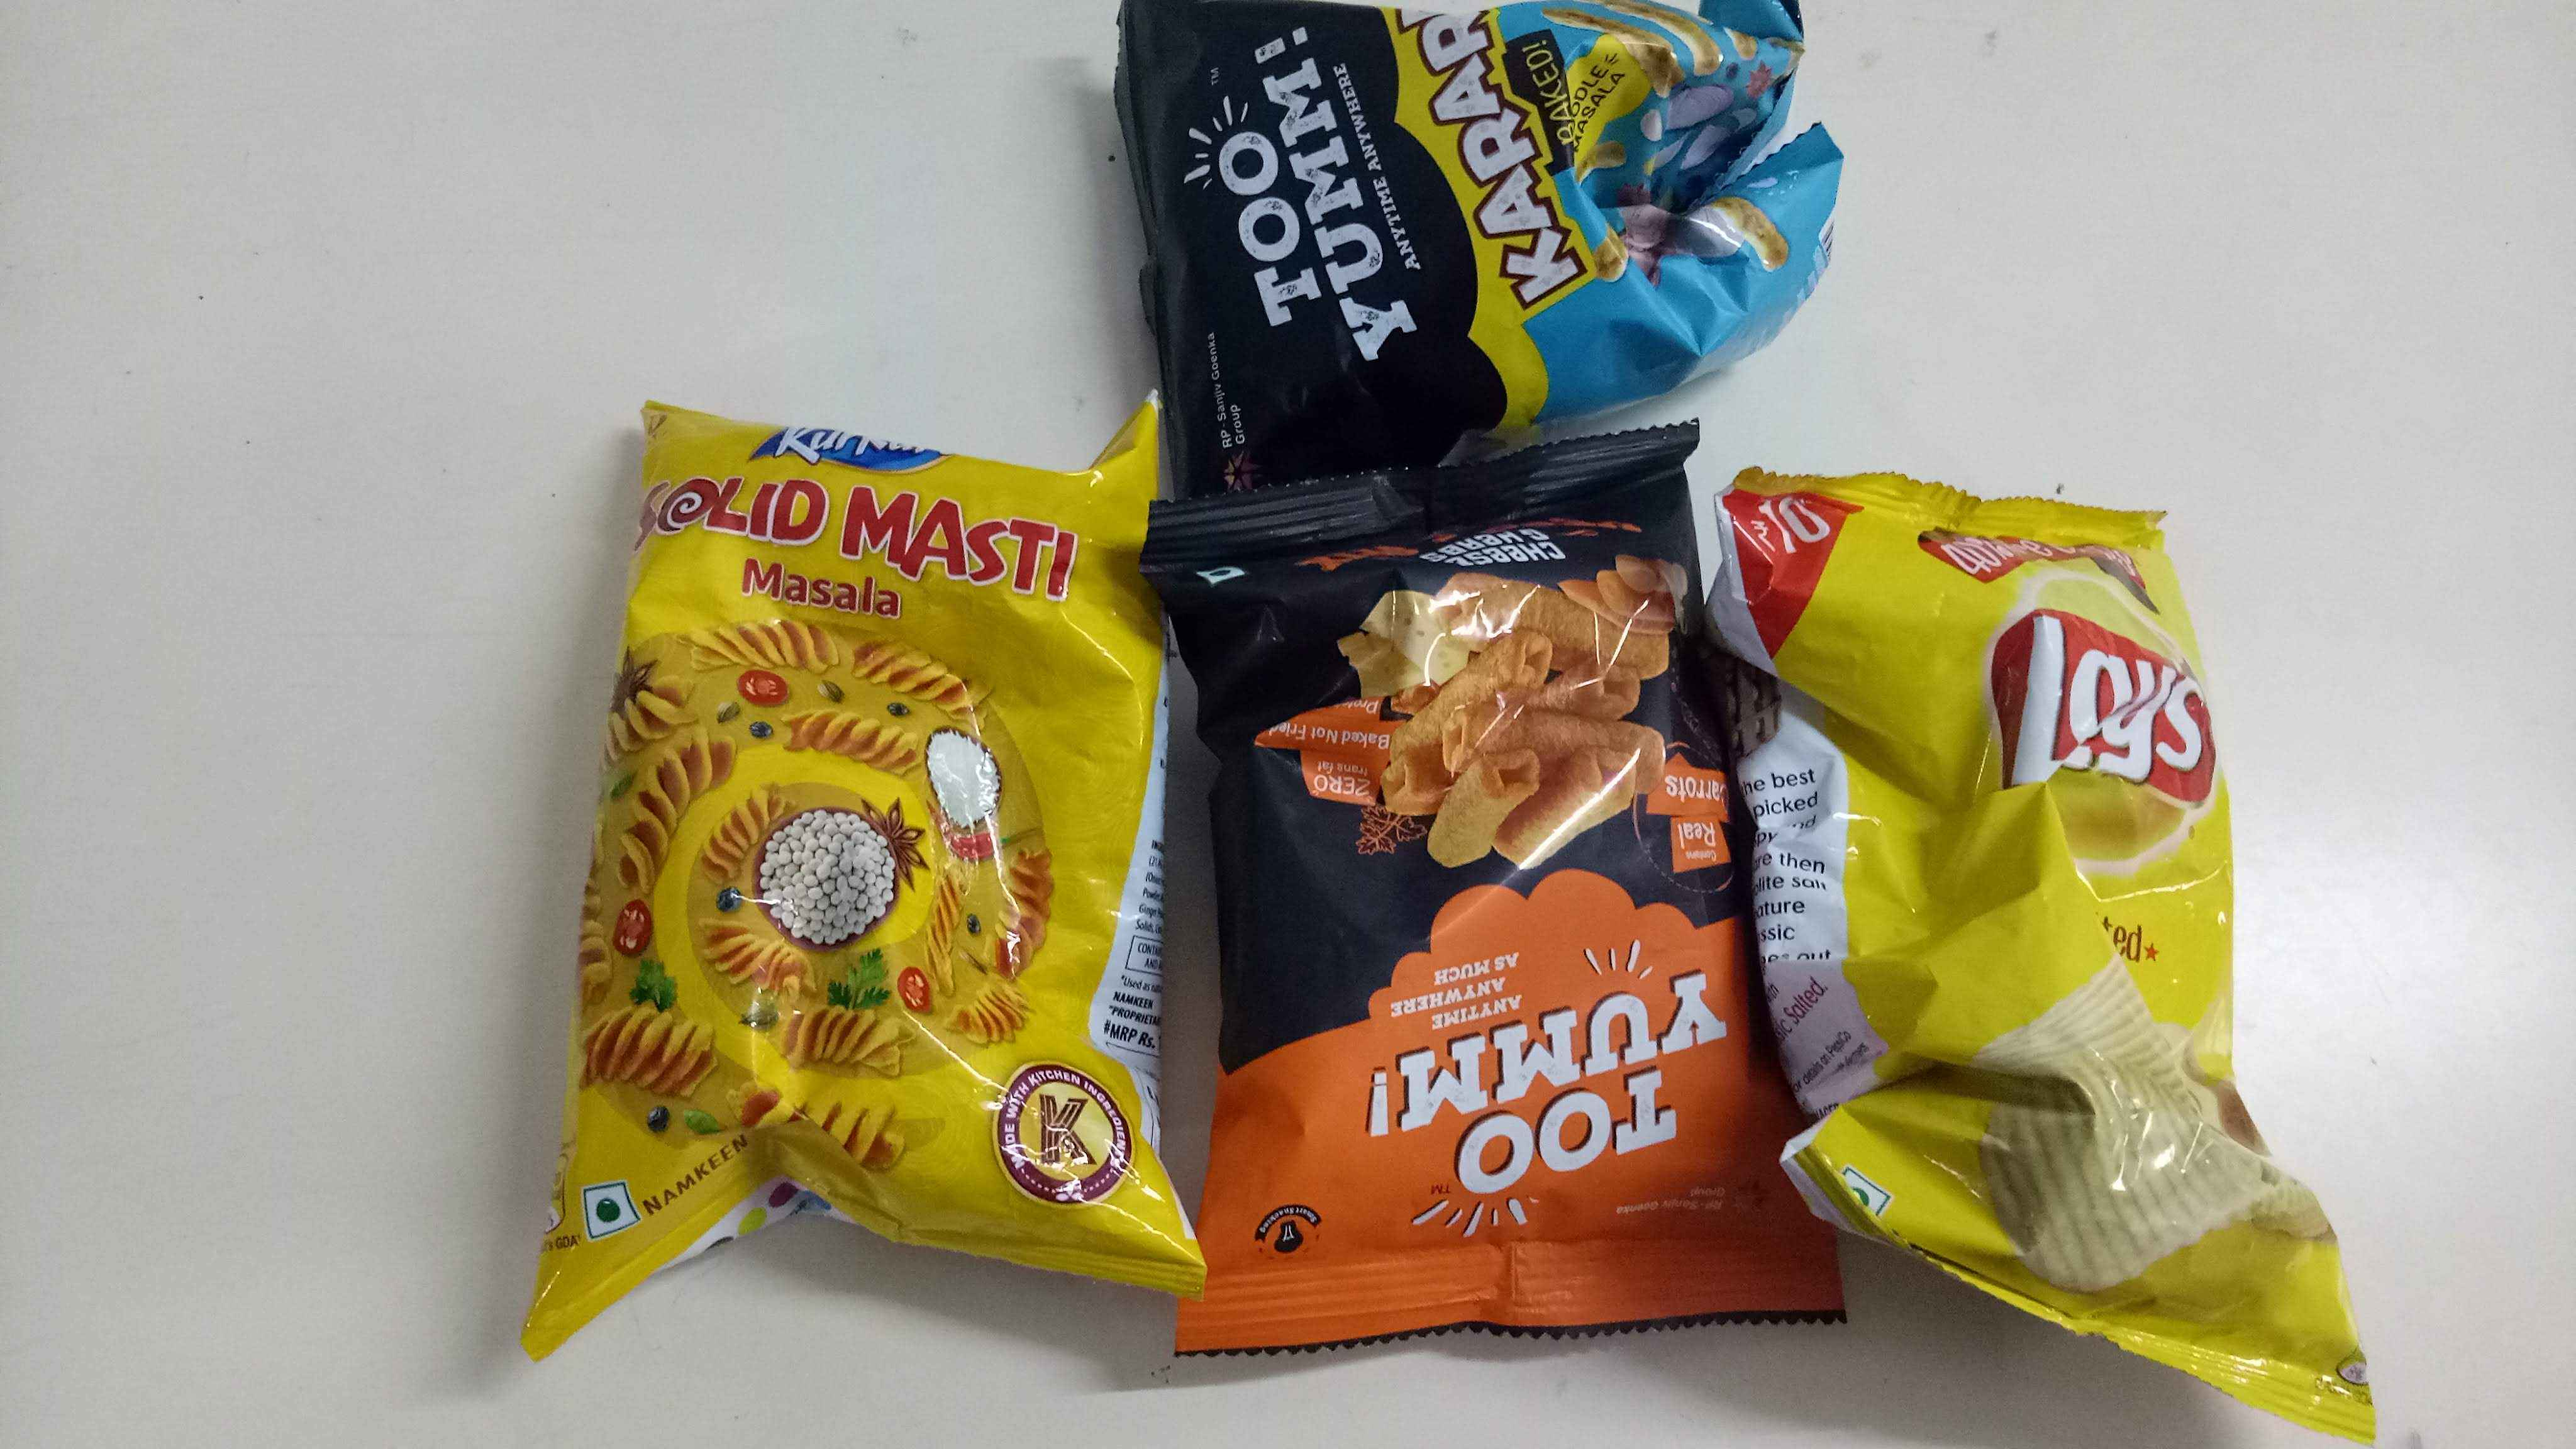Lays: (1928, 570, 2208, 863)
kurkure: (740, 430, 964, 469)
tooyumm: (1318, 959, 1759, 1235), (1168, 19, 1449, 372)
